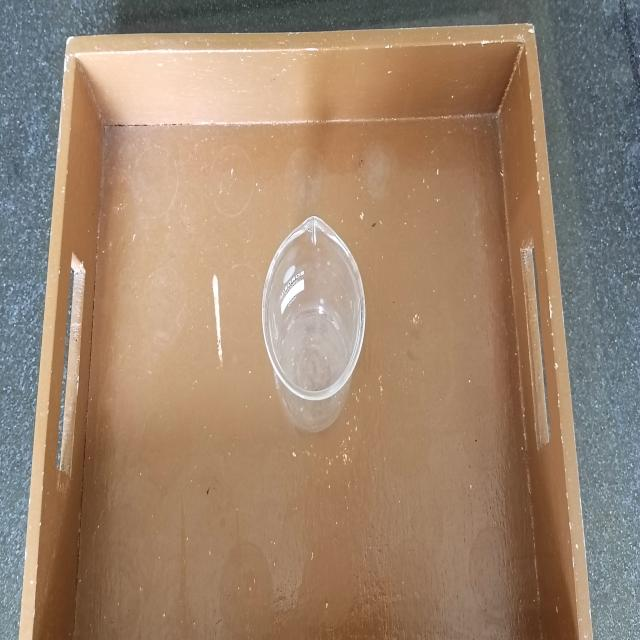beaker: (258, 209, 370, 442)
